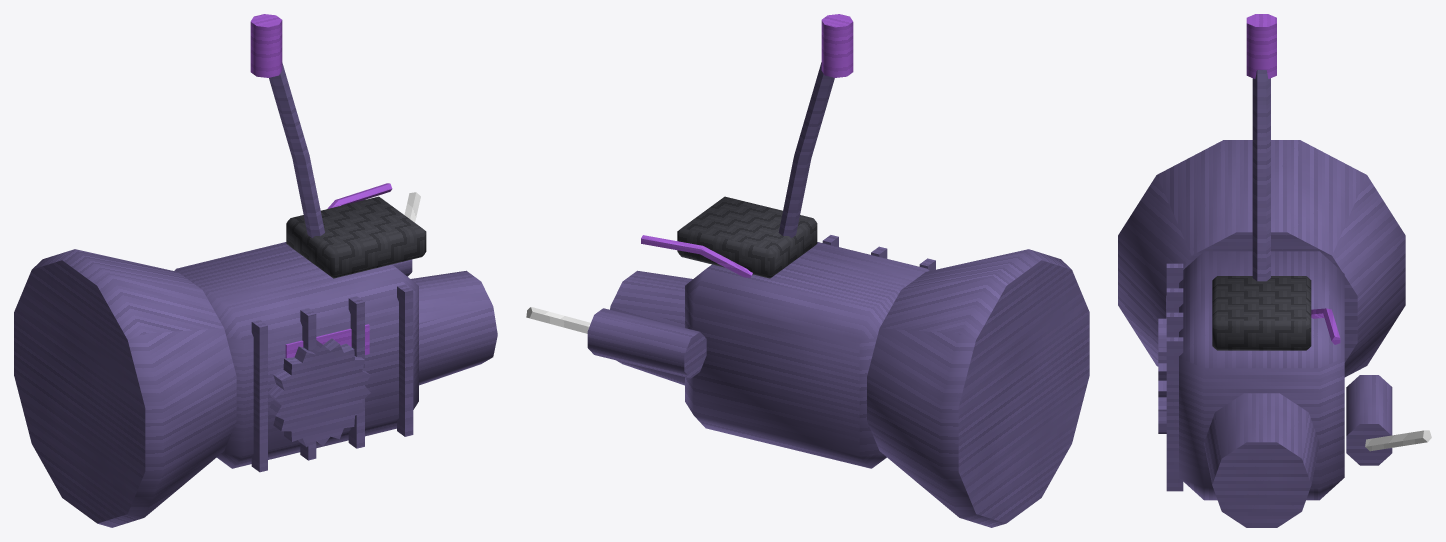
The model's file is cambio_n5.glb.
3 renders of one model, left to right at view 1: azimuth 30°, elevation 25°; view 2: azimuth 150°, elevation 25°; view 3: azimuth 270°, elevation 25°, orthographic. The views are drawn at different scales.
Visible parts, largest first — view 1: cambio_n5; view 2: cambio_n5; view 3: cambio_n5.
Boxes of the visible parts, x1,y1,x2,y2 form: cambio_n5: [14, 14, 497, 527]; cambio_n5: [526, 14, 1089, 527]; cambio_n5: [1118, 14, 1431, 527].
Size of the model in its own units: 0.6061 by 0.6239 by 0.3795.
4 materials, 4 textured.
